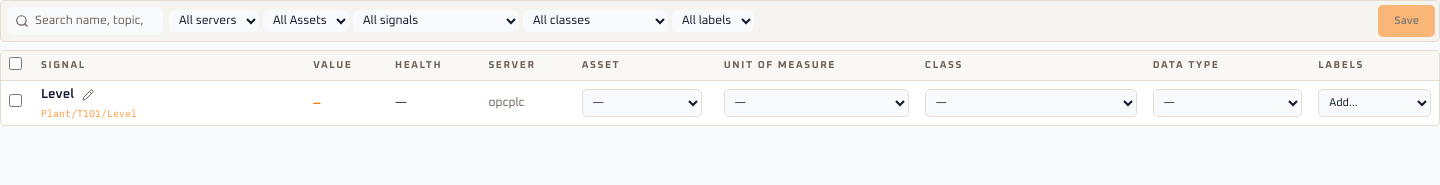
Test case: SignalsTab › shows a rose banner when a table save fails
The image size is (1440, 185).
Check: the button "Level" is shown, box [41,86,74,104]
Select "°C" in the dropdown named "Unit of Measure for Level" at (816, 103), box [724,89,909,117]
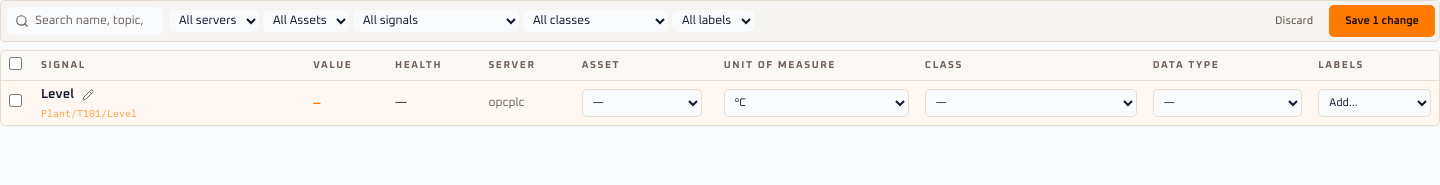
Click the button with aria-label "save signal changes".
click(1382, 21)  # box [1329,5,1435,37]
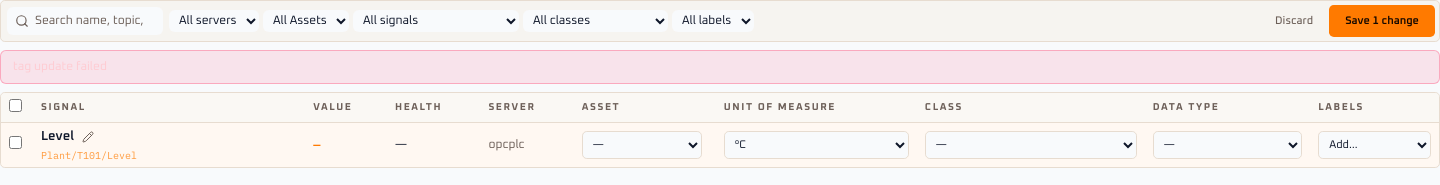
Check: the text "tag update failed" is shown, box [0,50,1439,84]
